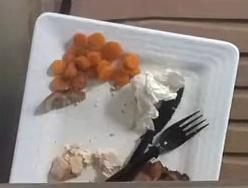carrots: (51, 32, 127, 90)
